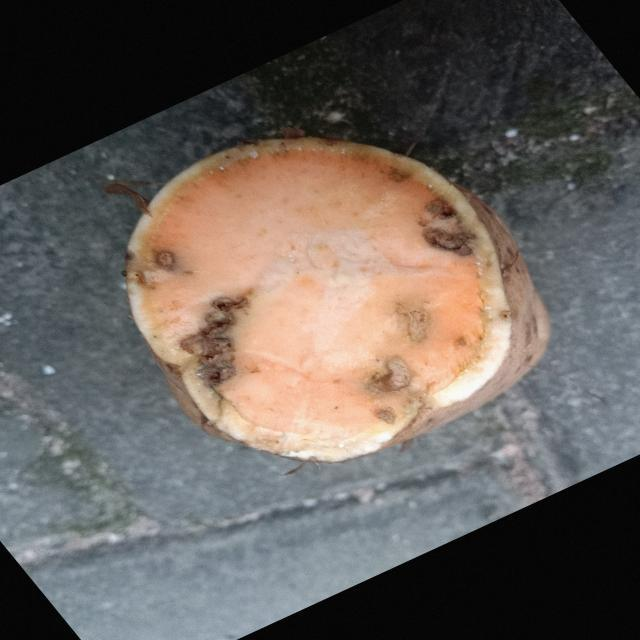Sick Sweet Potato_Tuber Rot: (127, 138, 548, 462)
